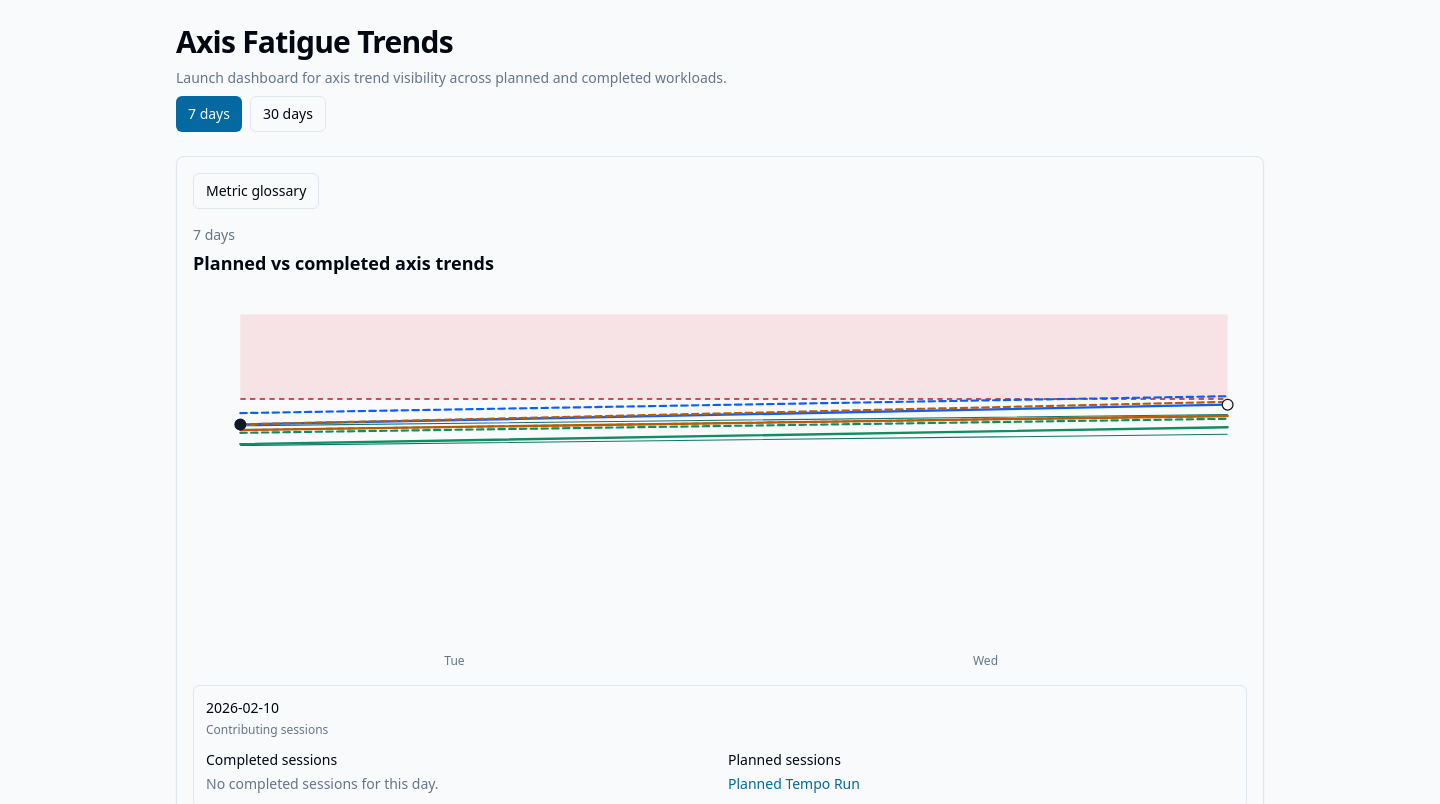
Scenario: AxisFatigueTrendsDashboard › provides contextual metric glossary access
Click the button "Metric glossary" at [256, 191], box [193,173,319,209]
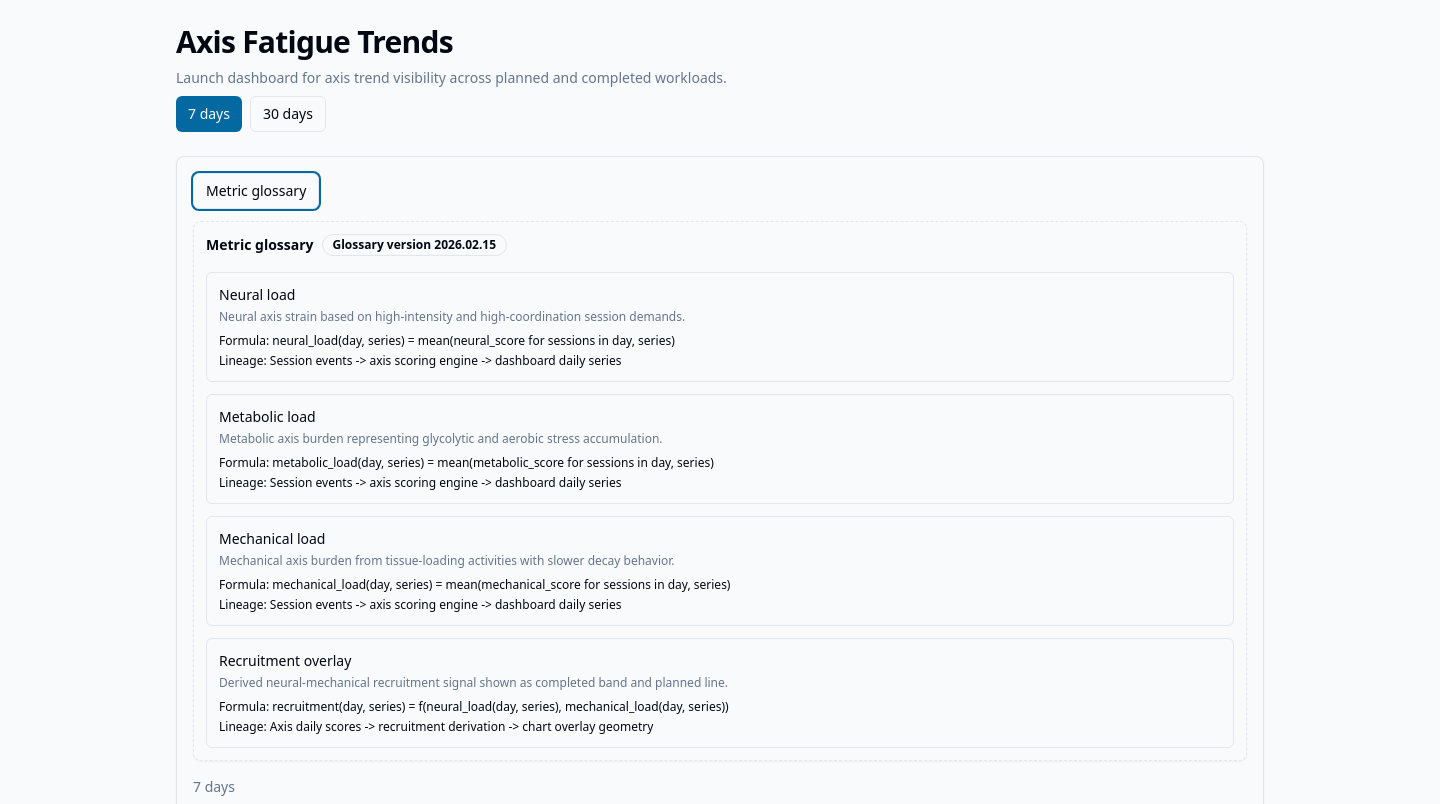
Expected: the text "Glossary version 2026.02.15" is shown, [322,234,507,256]
Expected: the text "Neural load" is shown, [219,285,295,304]
Expected: the text "Recruitment overlay" is shown, [219,651,351,670]
